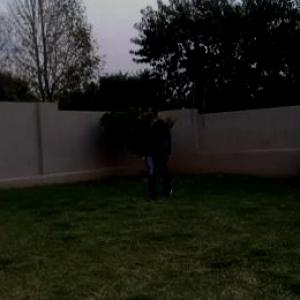follow: (142, 101, 176, 209)
